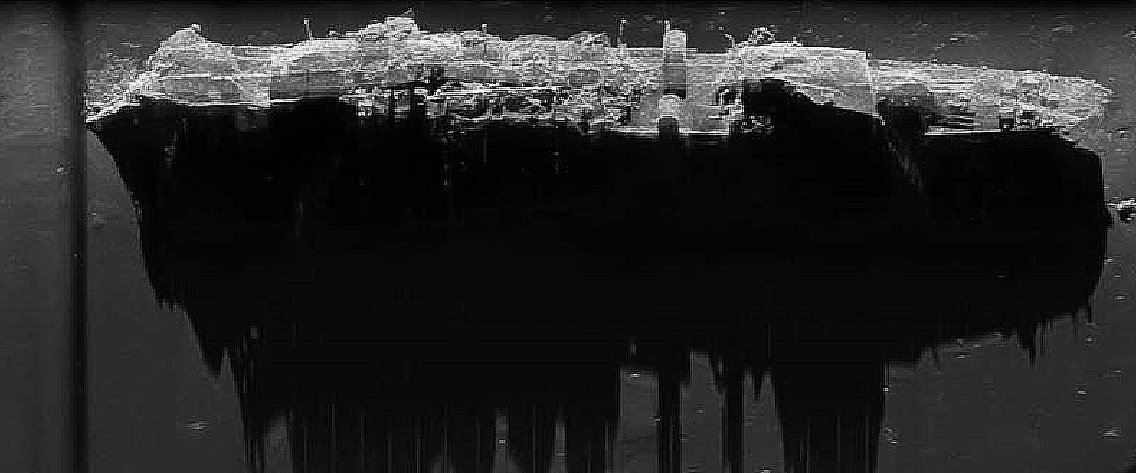ship: (76, 11, 1114, 160)
